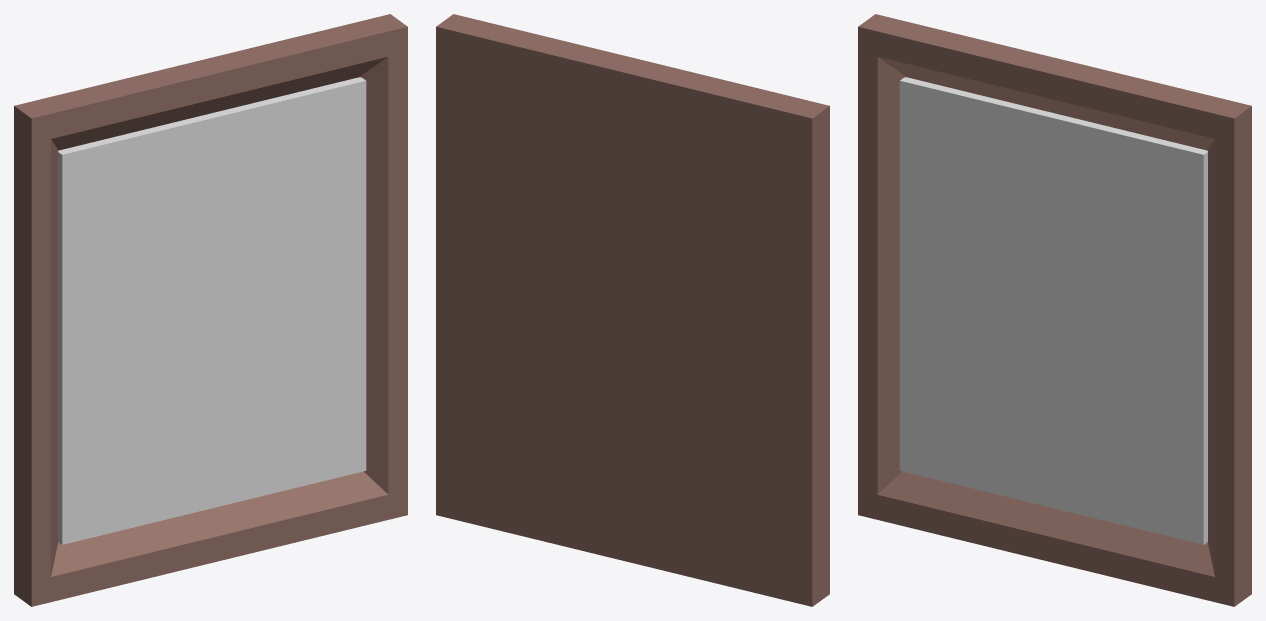
The model's file is FrameBig.fbx.
3 views of the same model, side by side, from view 1: azimuth 30°, elevation 25°; view 2: azimuth 150°, elevation 25°; view 3: azimuth 330°, elevation 25° (orthographic).
Parts seen in each view (by area): view 1: Plane, Cube; view 2: Cube; view 3: Plane, Cube.
Boxes of the visible parts, x1,y1,x2,y2 form: Plane: [58, 77, 366, 544]; Cube: [14, 14, 407, 606]; Cube: [436, 14, 829, 606]; Plane: [899, 77, 1207, 544]; Cube: [858, 14, 1251, 606].
Size of the model in its own units: 476 by 591 by 38.18.
